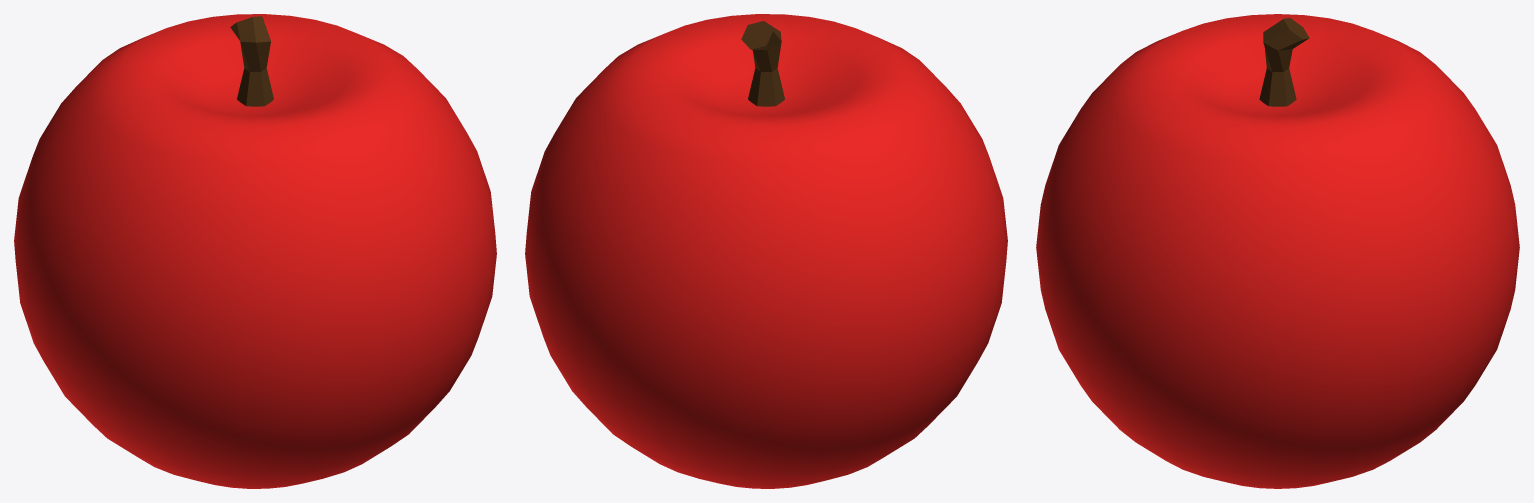
The model's file is Apple_Item.fbx.
The picture shows the model from 3 angles, left to right: view 1: azimuth 30°, elevation 25°; view 2: azimuth 150°, elevation 25°; view 3: azimuth 270°, elevation 25°; orthographic projection.
Visible parts, largest first — view 1: Apple; view 2: Apple; view 3: Apple.
Part boxes in pixels (left/top/right/bottom): Apple: left=14, top=14, right=496, bottom=488; Apple: left=525, top=14, right=1007, bottom=488; Apple: left=1036, top=14, right=1519, bottom=488.
Size of the model in its own units: 200 by 204 by 200.
